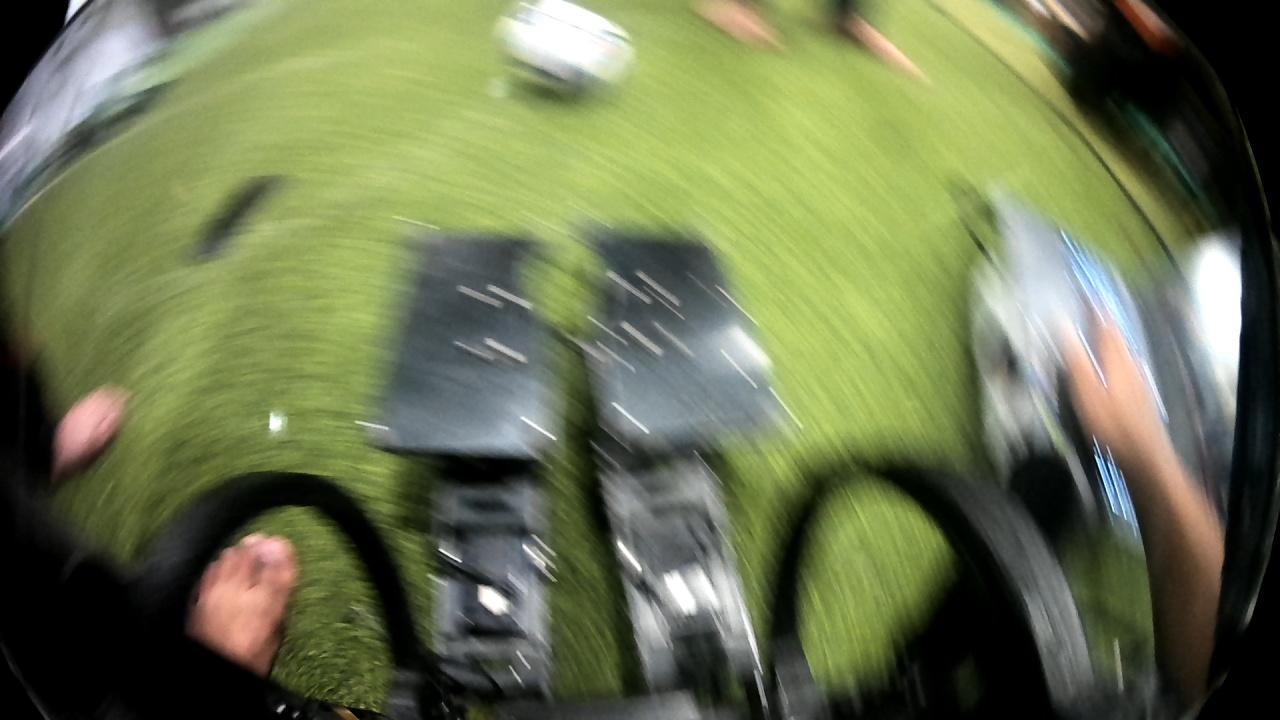ball: (494, 0, 643, 107)
